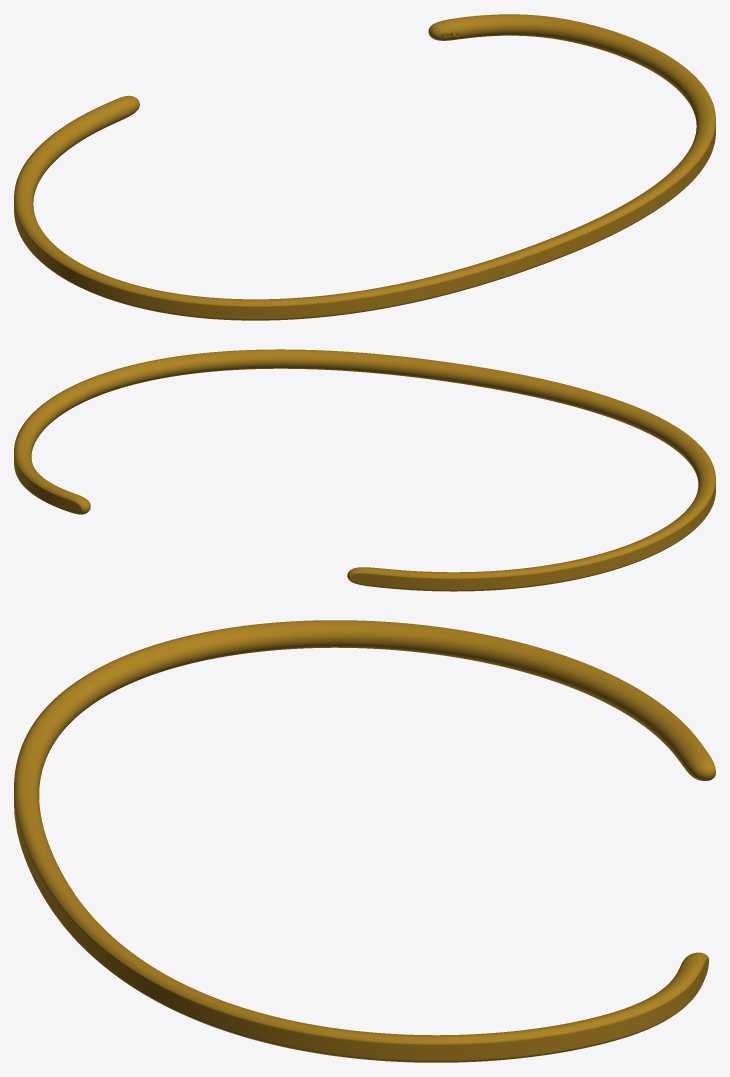
File: light-gold24_clrea.glb
3 renders of one model, top to bottom at view 1: azimuth 30°, elevation 25°; view 2: azimuth 150°, elevation 25°; view 3: azimuth 270°, elevation 25°, orthographic. The views are drawn at different scales.
Parts seen in each view (by area): view 1: lightbody.001; view 2: lightbody.001; view 3: lightbody.001.
Part boxes in pixels (x1,y1,x2,y2): lightbody.001: (14, 14, 715, 320); lightbody.001: (14, 349, 715, 591); lightbody.001: (14, 620, 715, 1062).
Size of the model in its own units: 3.4 by 0.0938 by 2.38.
Materials: 1 (1 with a texture image).
